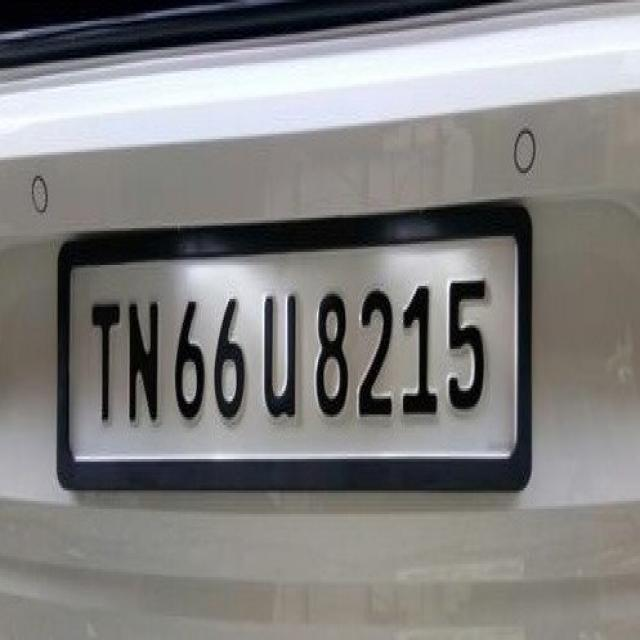license-plate: (66, 231, 515, 459)
